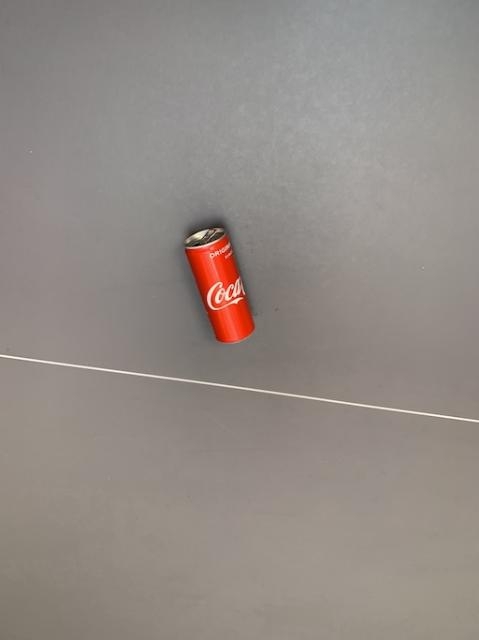metal: (184, 226, 253, 341)
